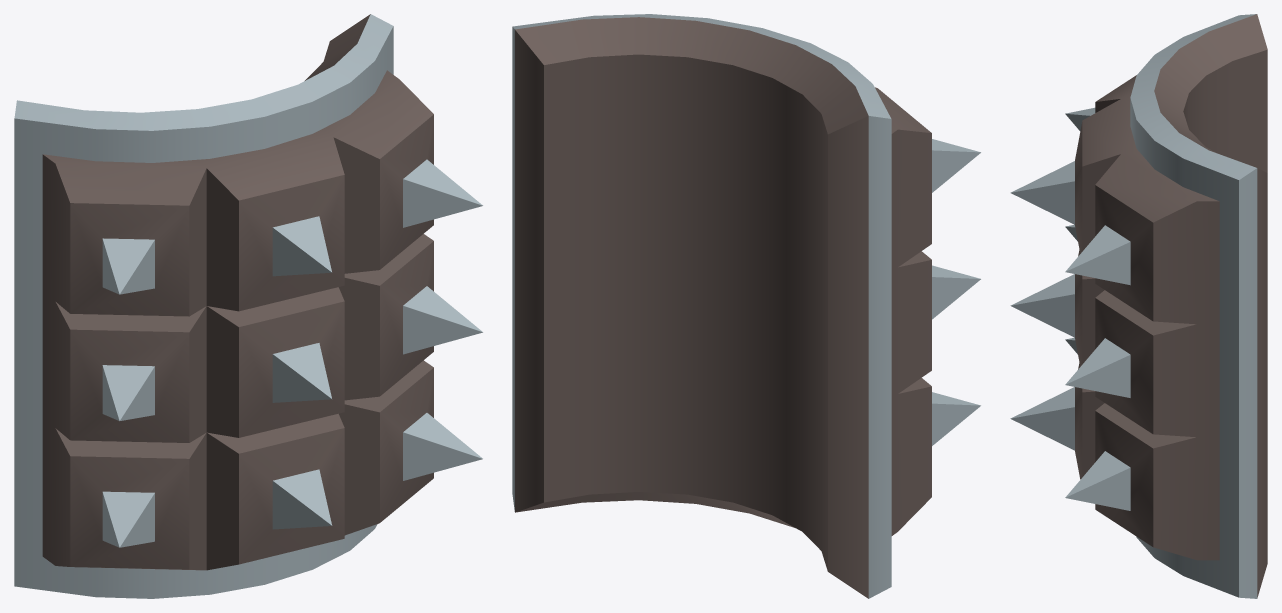
Rendered from warriorShield.gltf.glb.
The picture shows the model from 3 angles, left to right: view 1: azimuth 30°, elevation 25°; view 2: azimuth 150°, elevation 25°; view 3: azimuth 270°, elevation 25°; orthographic projection. The views are drawn at different scales.
Visible parts, largest first — view 1: warriorShield; view 2: warriorShield; view 3: warriorShield.
Boxes of the visible parts, <box> form: warriorShield: <box>14,14,482,598</box>; warriorShield: <box>512,14,980,598</box>; warriorShield: <box>1010,14,1267,598</box>.
Size of the model in its own units: 0.7955 by 0.9689 by 0.5247.
